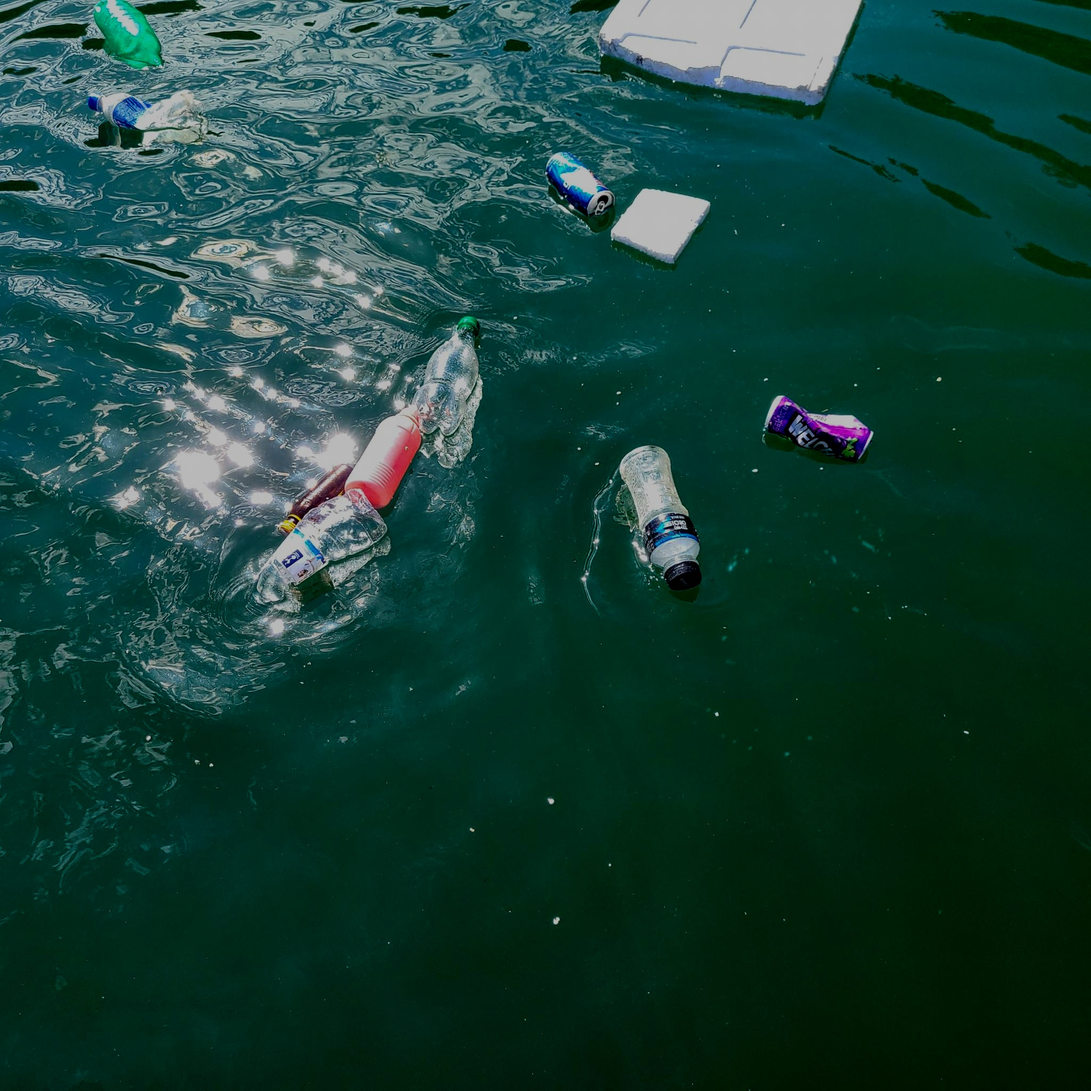sampah_terapung: (599, 1, 865, 108), (246, 488, 388, 618), (620, 446, 703, 591), (411, 316, 480, 436), (345, 408, 422, 509), (611, 189, 711, 264), (765, 395, 874, 462), (280, 464, 354, 537), (88, 89, 205, 132), (94, 1, 165, 68), (547, 152, 616, 218)
